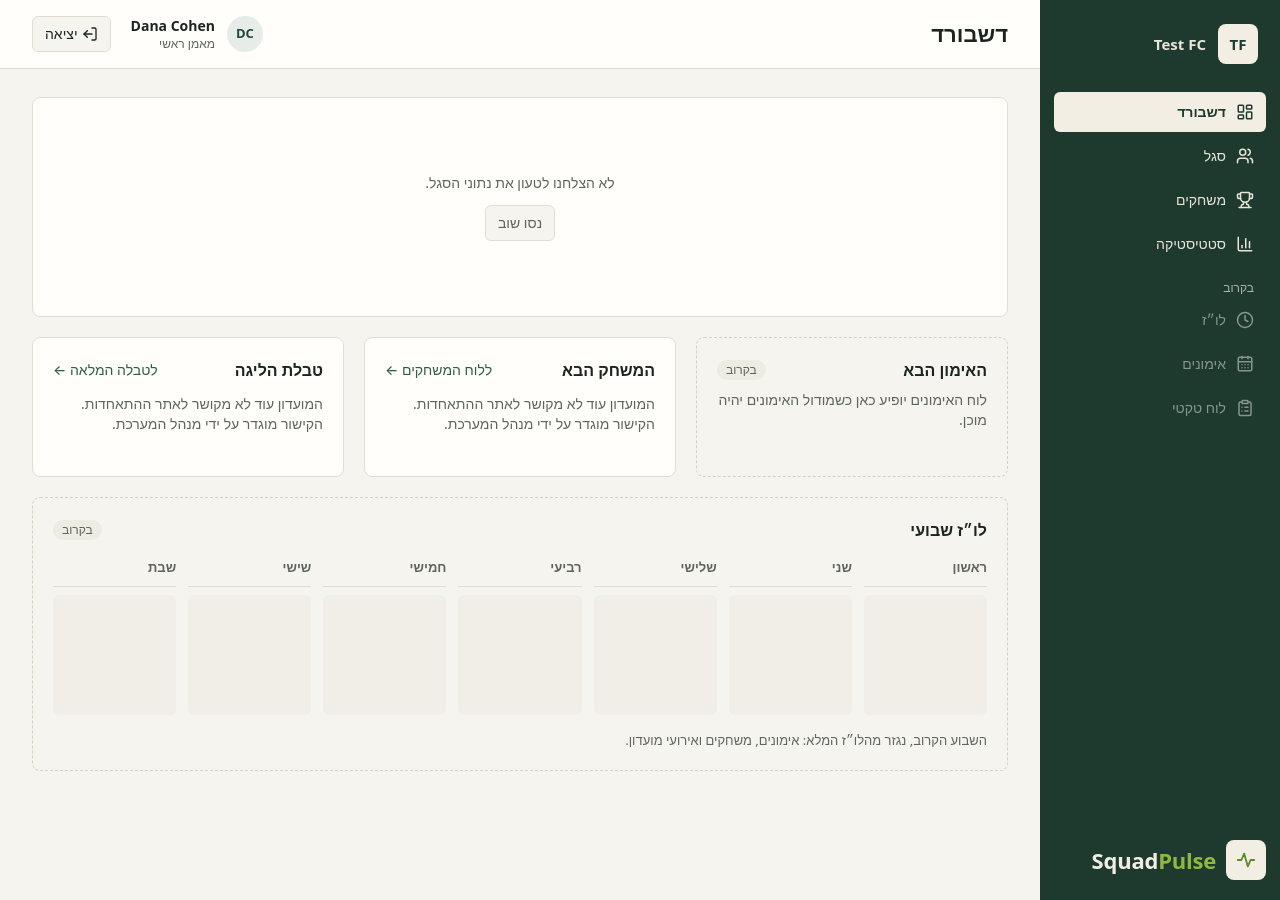
the dashboard's states › shows the error with a retry in place of the squad cards; a retry loads them
Expected: the heading "דשבורד" is shown, [931,20,1008,48]
Expected: the text "לא הצלחנו לטעון את נתוני הסגל." is shown, [425,173,615,193]
Click the button "נסו שוב" at (520, 223), box [485,205,555,241]
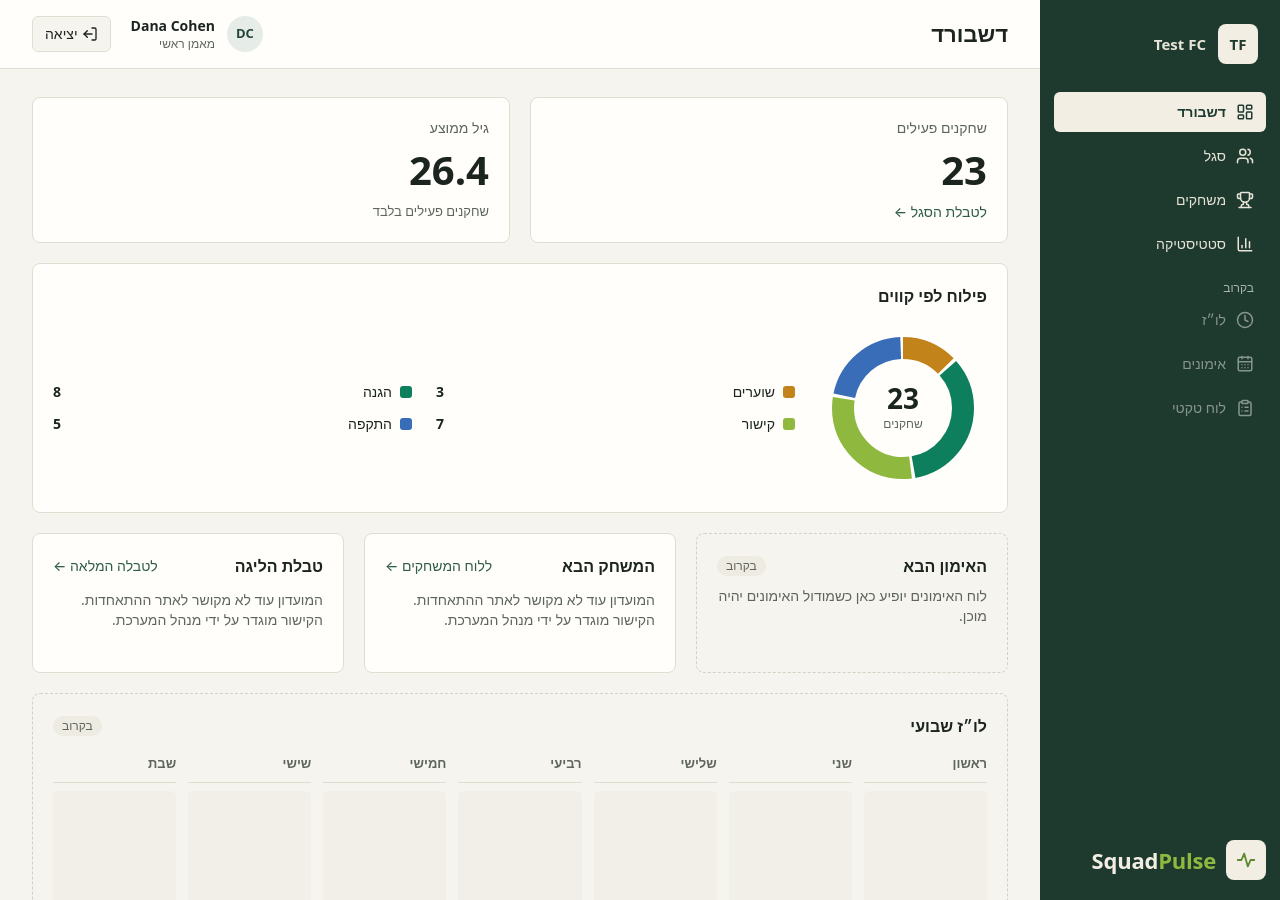
Expected: the element "פילוח לפי קווים" is shown, [32,263,1008,513]
Expected: the text "לא הצלחנו לטעון את נתוני הסגל." is gone
